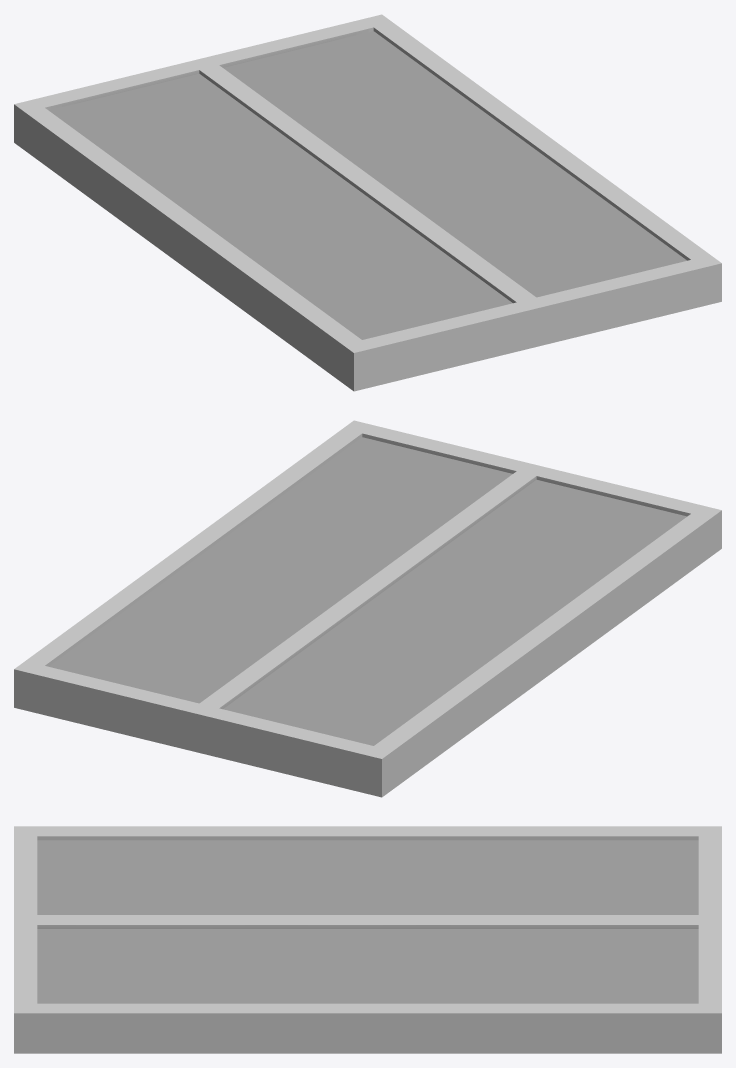
File: pool3.fbx
3 renders of one model, top to bottom at view 1: azimuth 30°, elevation 25°; view 2: azimuth 150°, elevation 25°; view 3: azimuth 270°, elevation 25°, orthographic. The views are drawn at different scales.
Parts seen in each view (by area): view 1: polySurface5, polySurface9, polySurface10; view 2: polySurface5, polySurface9, polySurface10; view 3: polySurface5, polySurface10, polySurface9.
Boxes of the visible parts, x1=… form: polySurface5: x1=14, y1=14, x2=721, y2=391; polySurface9: x1=223, y1=31, x2=686, y2=297; polySurface10: x1=49, y1=73, x2=512, y2=339; polySurface5: x1=14, y1=420, x2=721, y2=797; polySurface9: x1=49, y1=437, x2=512, y2=703; polySurface10: x1=223, y1=479, x2=686, y2=745; polySurface5: x1=14, y1=826, x2=721, y2=1053; polySurface10: x1=37, y1=840, x2=698, y2=914; polySurface9: x1=37, y1=929, x2=698, y2=1003.
Size of the model in its own units: 10 by 0.9985 by 16.
Materials: 4 (1 with a texture image).
